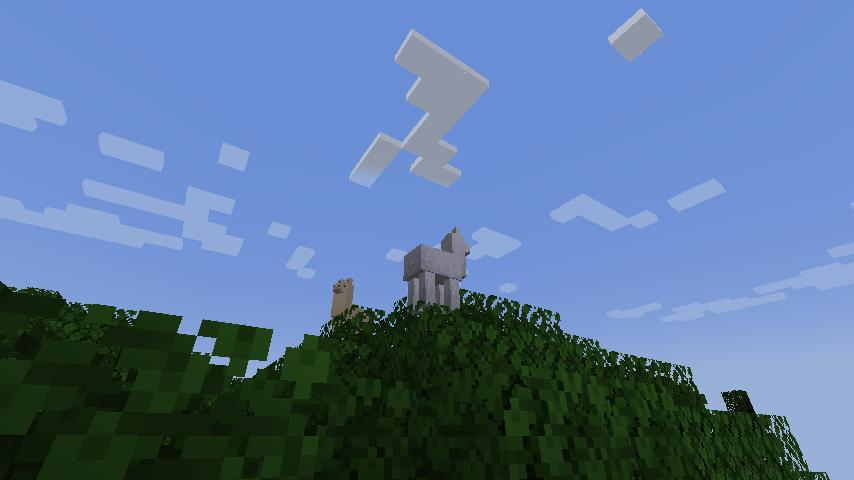llama: (399, 224, 475, 314), (329, 275, 374, 326)
